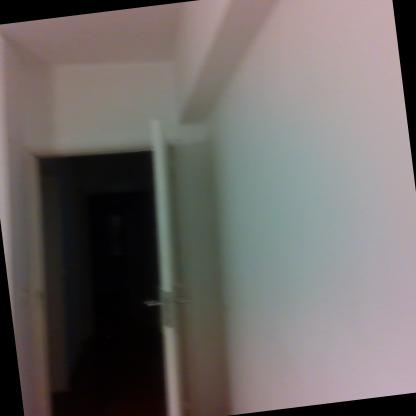open: (0, 117, 244, 415)
